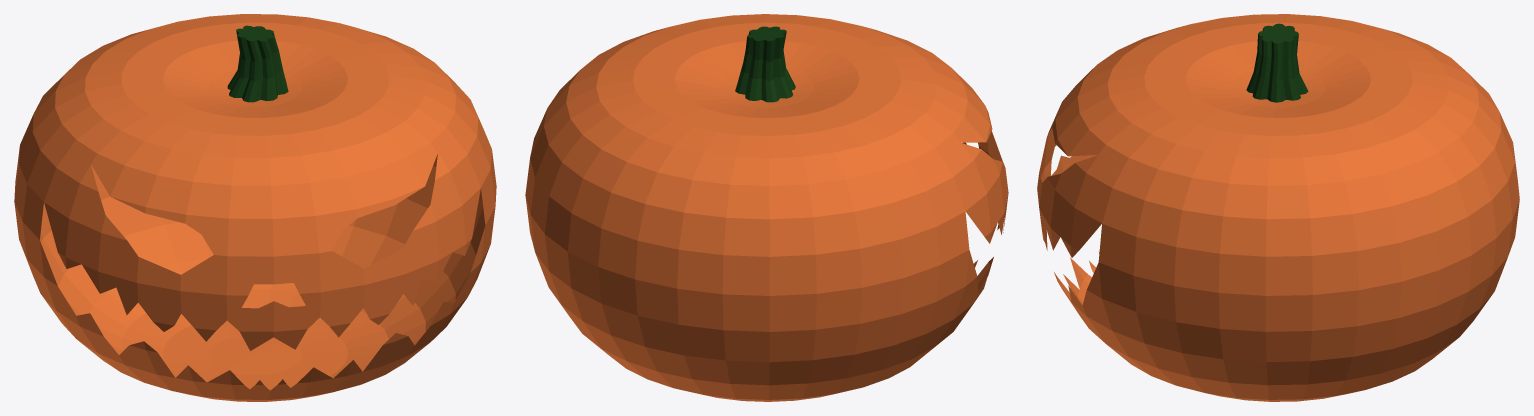
File: pumpkin_2.glb
3 renders of one model, left to right at view 1: azimuth 30°, elevation 25°; view 2: azimuth 150°, elevation 25°; view 3: azimuth 270°, elevation 25°, orthographic.
Parts seen in each view (by area): view 1: Pumpkin.001, Cylinder.001; view 2: Pumpkin.001, Cylinder.001; view 3: Pumpkin.001, Cylinder.001.
Boxes of the visible parts, x1=… form: Pumpkin.001: x1=14, y1=14, x2=496, y2=401; Cylinder.001: x1=227, y1=25, x2=288, y2=102; Pumpkin.001: x1=525, y1=14, x2=1008, y2=401; Cylinder.001: x1=735, y1=26, x2=795, y2=102; Pumpkin.001: x1=1037, y1=14, x2=1519, y2=401; Cylinder.001: x1=1246, y1=23, x2=1308, y2=102.
Bounding box in the file's own units: 1.08 × 0.7983 × 1.08.
